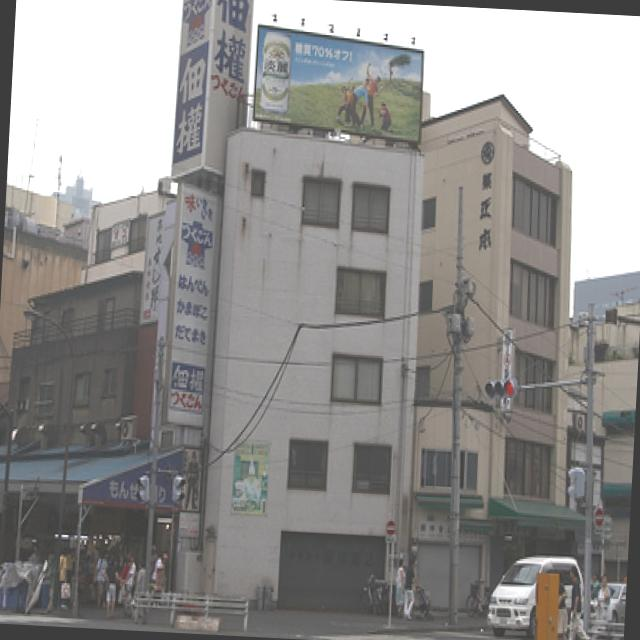Vehicle: (486, 551, 588, 640), (488, 553, 586, 640), (606, 582, 626, 624), (588, 585, 600, 626)
